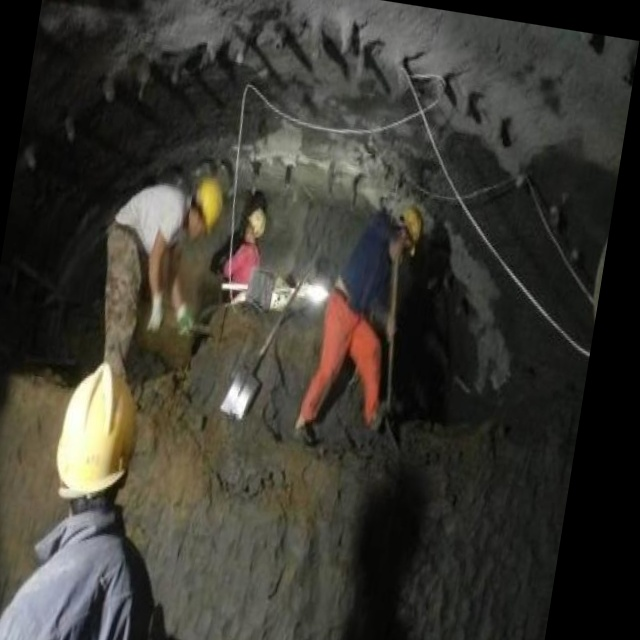Con_Casco: (48, 361, 148, 521)
Sin_Chaleco: (0, 529, 176, 640)
